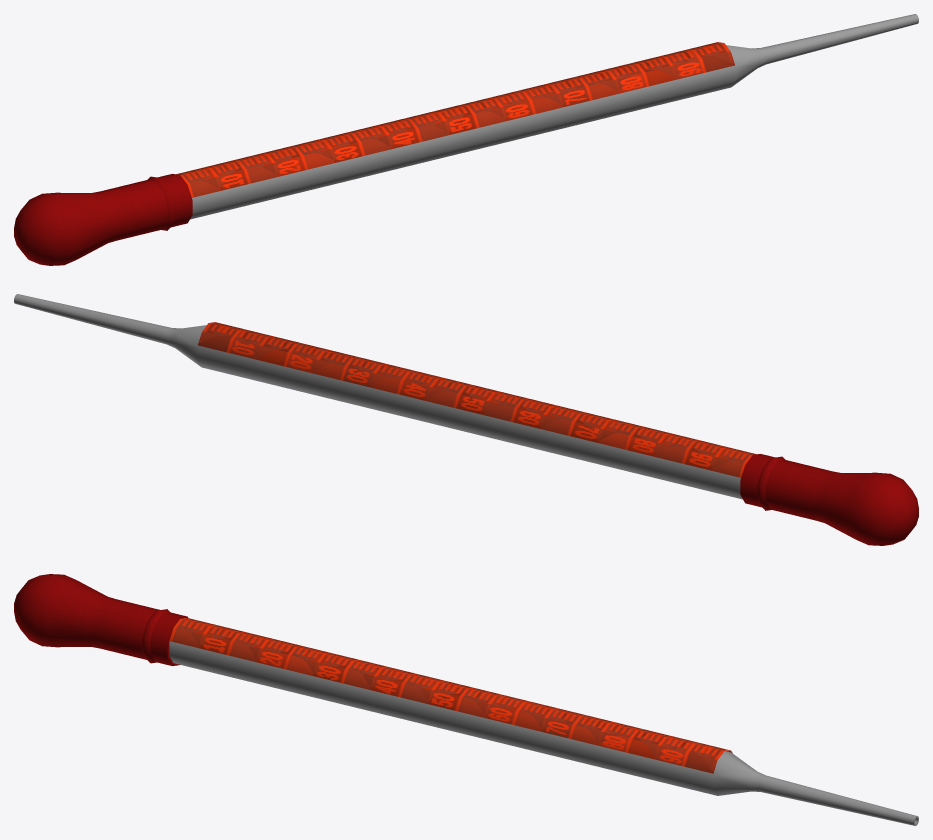
File: SM_胶头滴管.fbx
3 renders of one model, top to bottom at view 1: azimuth 30°, elevation 25°; view 2: azimuth 150°, elevation 25°; view 3: azimuth 330°, elevation 25°, orthographic.
Parts seen in each view (by area): view 1: SM_胶头滴管; view 2: SM_胶头滴管; view 3: SM_胶头滴管.
Part boxes in pixels (x1,y1,x2,y2): SM_胶头滴管: (14,14,918,265); SM_胶头滴管: (14,294,918,545); SM_胶头滴管: (14,574,918,825).
Size of the model in its own units: 0.1191 by 0.00866 by 0.00824.
3 materials, 2 textured.
